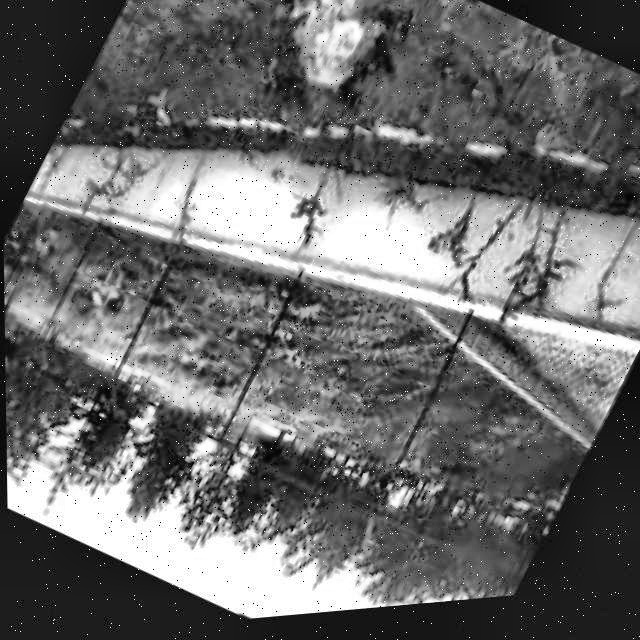Fire: (235, 0, 410, 108)
